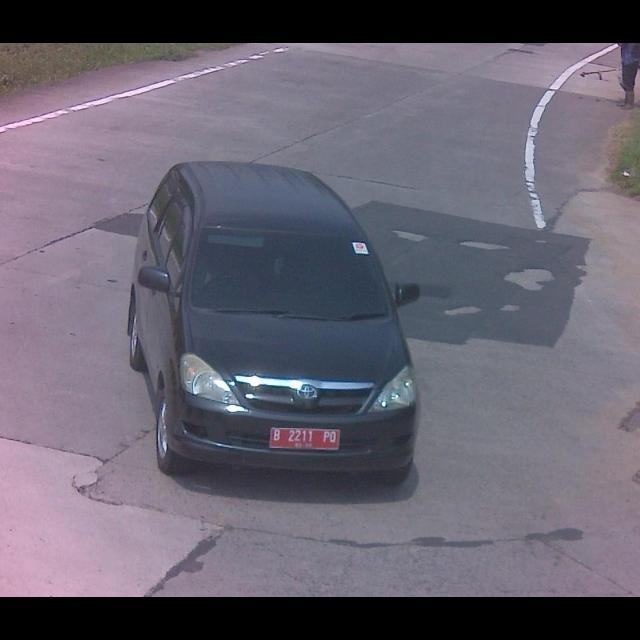plate: (265, 422, 342, 454)
